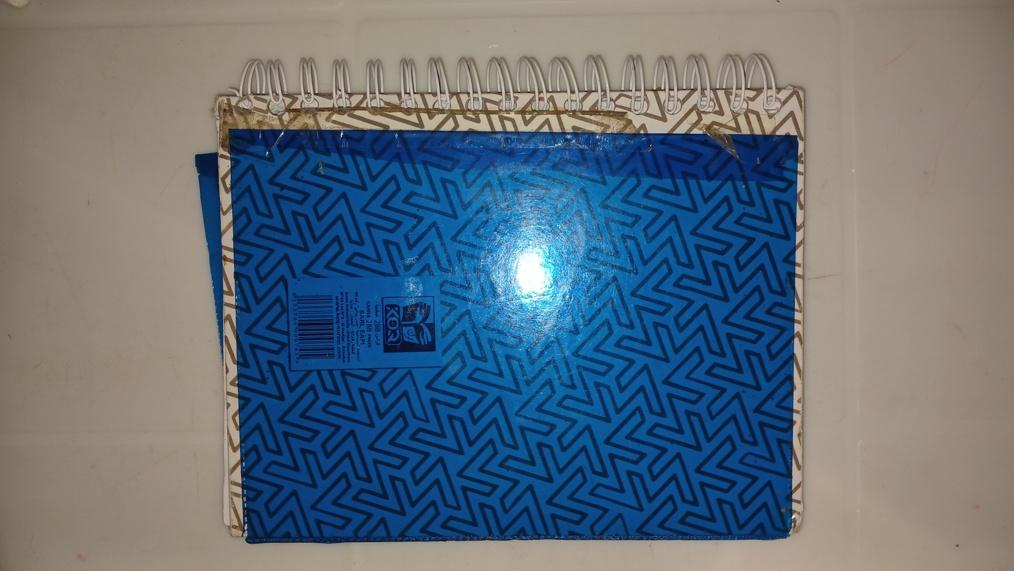notebook: (219, 51, 810, 536)
